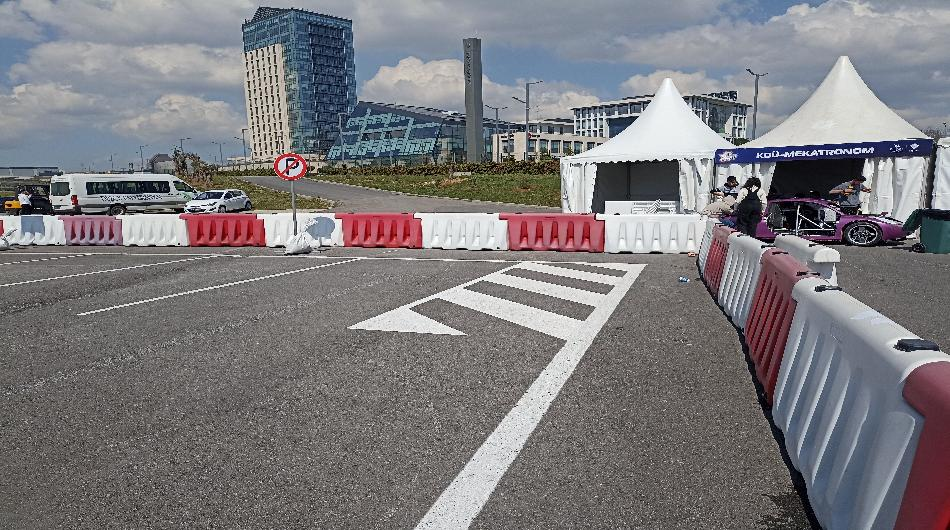park_yapilmaz_3: (272, 151, 308, 182)
